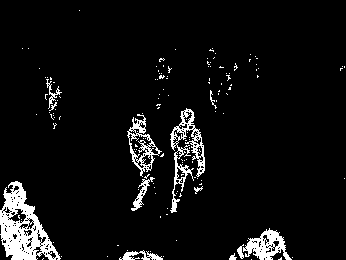person: (1, 175, 64, 259), (126, 112, 165, 212), (171, 107, 206, 215)
